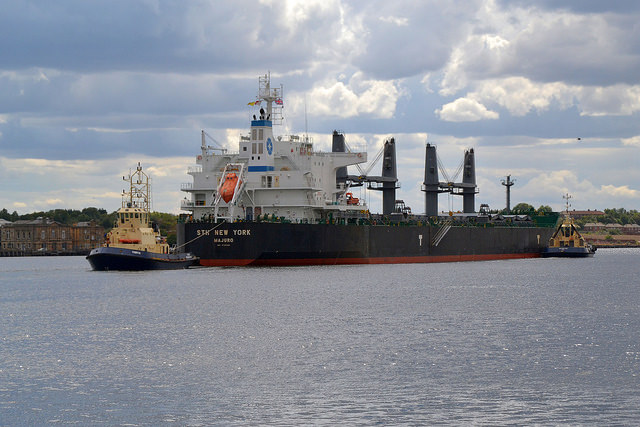bulk carrier: (184, 71, 556, 265)
tug_boat: (89, 164, 188, 268), (548, 194, 599, 259)
